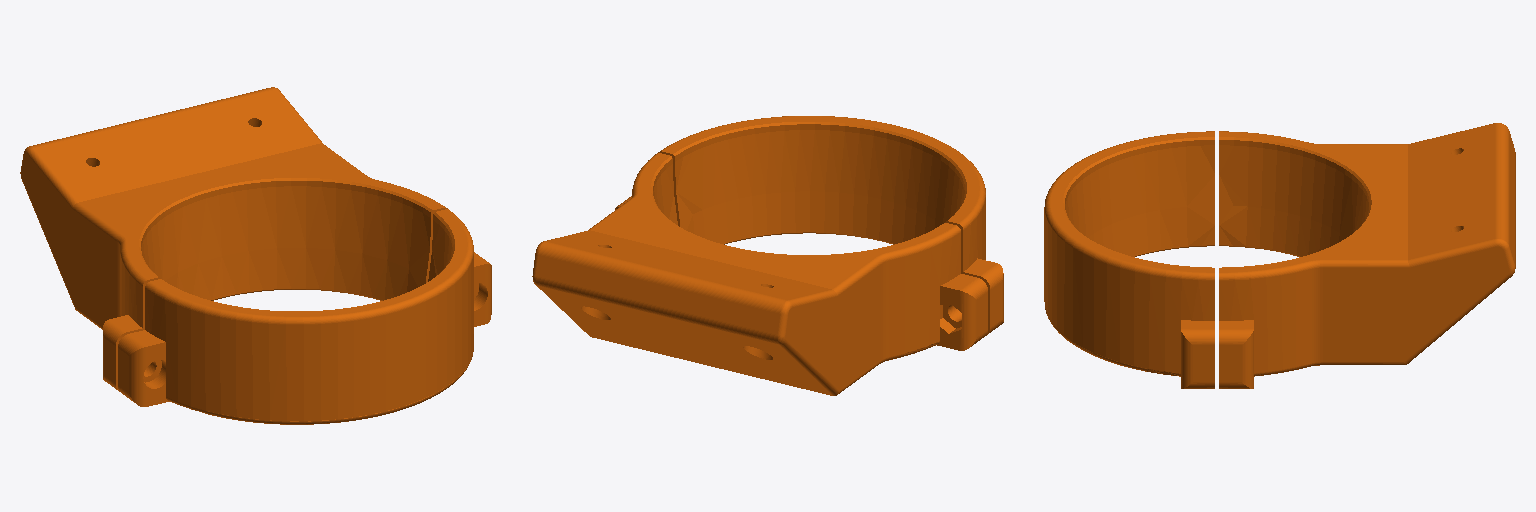
URDF robot description (kinova_cam_ring):
<?xml version="1.0"?>
<!-- Gerado por scripts/ros_export.py (kinova-cam): ring — D435i centrada no punho, 15° (versão original).
     URDF isolado (raiz end_effector_link), para conferir com check_urdf / RViz. -->
<robot name="kinova_cam_ring">
  <link name="end_effector_link"/>
  <joint name="camera_mount_joint" type="fixed">
    <parent link="end_effector_link"/>
    <child link="camera_mount_link"/>
    <origin xyz="0 0 0.00287" rpy="0 0 0"/>
  </joint>
  <link name="camera_mount_link">
    <visual>
      <geometry><mesh filename="package://kinova_cam_description/meshes/ring_camera_half.stl" scale="0.001 0.001 0.001"/></geometry>
      <material name="ring_camera_half"><color rgba="0.85 0.45 0.1 1"/></material>
    </visual>
    <collision>
      <geometry><mesh filename="package://kinova_cam_description/meshes/ring_camera_half.stl" scale="0.001 0.001 0.001"/></geometry>
    </collision>
    <visual>
      <geometry><mesh filename="package://kinova_cam_description/meshes/ring_lower_half.stl" scale="0.001 0.001 0.001"/></geometry>
      <material name="ring_lower_half"><color rgba="0.85 0.45 0.1 1"/></material>
    </visual>
    <collision>
      <geometry><mesh filename="package://kinova_cam_description/meshes/ring_lower_half.stl" scale="0.001 0.001 0.001"/></geometry>
    </collision>
  </link>
  <joint name="camera_joint" type="fixed">
    <parent link="camera_mount_link"/>
    <child link="camera_link"/>
    <origin xyz="0.0175 0.053661 0.002326" rpy="0 -1.309 -1.5708"/>
  </joint>
  <link name="camera_link"/>
</robot>

--- Facts derived from the render (not from the file) ---
The picture shows the robot from 3 angles, left to right: view 1: azimuth 30°, elevation 25°; view 2: azimuth 150°, elevation 25°; view 3: azimuth 270°, elevation 25°; orthographic projection.
Model kinova_cam_ring with 3 links and 2 joints (2 fixed), rooted at end_effector_link, posed all joints at 0.
Visible links, largest first — view 1: camera_mount_link; view 2: camera_mount_link; view 3: camera_mount_link.
Boxes of the visible links, bbox=[...] form: camera_mount_link: bbox=[20, 87, 491, 424]; camera_mount_link: bbox=[532, 116, 1003, 395]; camera_mount_link: bbox=[1044, 123, 1515, 388].
Size in the robot's own frame: 0.1 by 0.1158 by 0.0343 metres.
2 mesh visuals loaded from 2 distinct referenced files (2 binary STL).
